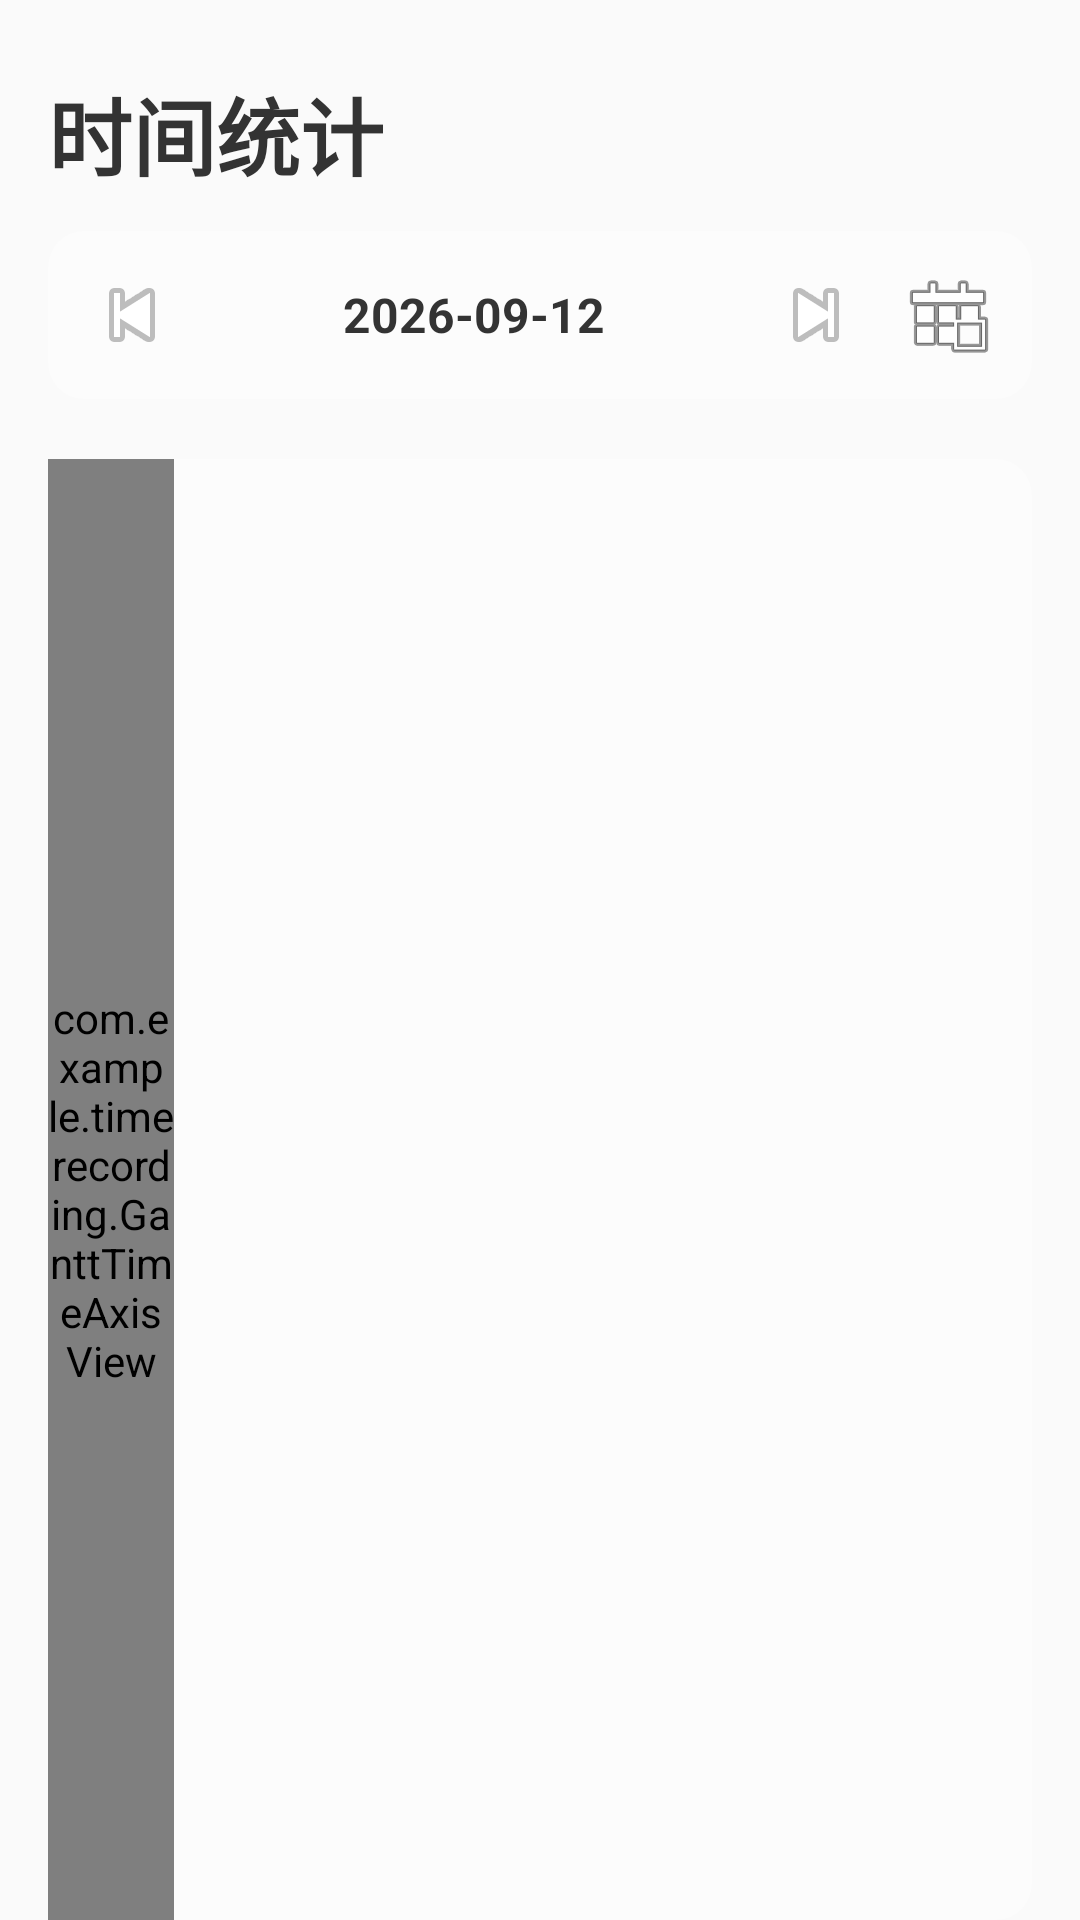

Where to tap for icons on this 1080*1920 app screen, as (x=x, y=y):
前一天: (x=132, y=315)
后一天: (x=816, y=315)
回到今天: (x=949, y=316)
